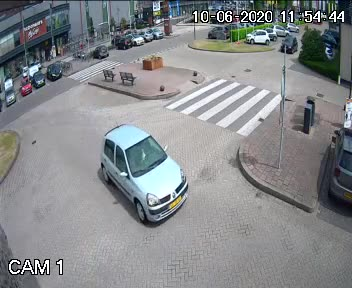car: (89, 119, 192, 224), (280, 33, 297, 56)
